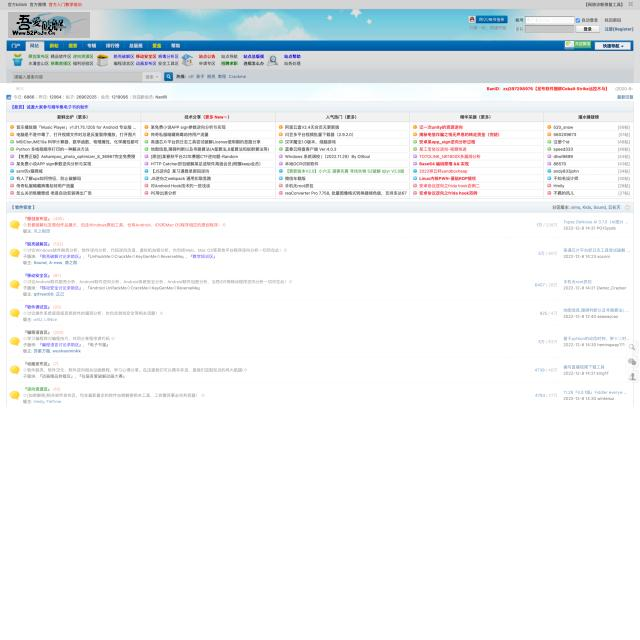CheckBox: (565, 41, 591, 50), (576, 25, 600, 32), (576, 18, 580, 22)
CheckedTextView: (12, 72, 160, 82), (525, 16, 574, 24), (525, 25, 574, 33)
QR code: (8, 213, 632, 404)
SeekBar: (5, 85, 28, 92)
alert: (595, 42, 631, 49), (142, 72, 160, 82)
bag: (0, 0, 640, 83)
data feed: (515, 16, 524, 23), (515, 27, 524, 31)
date picker: (8, 12, 90, 38)
footer: (526, 18, 552, 23)
icon: (6, 40, 187, 50)
